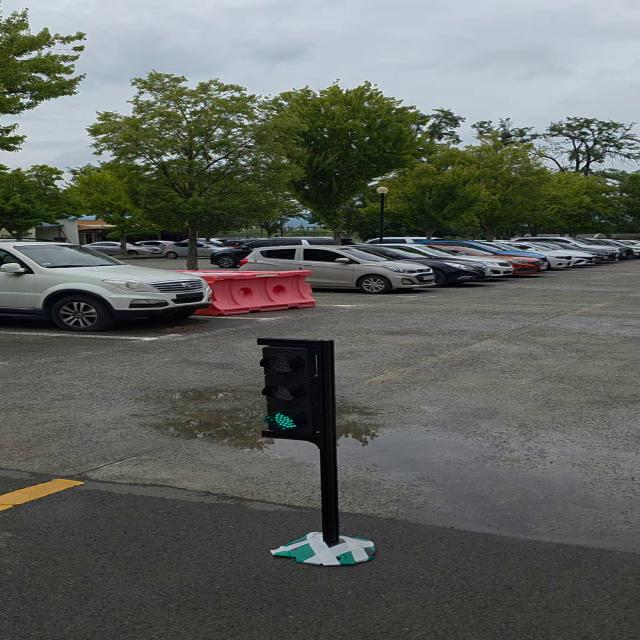green: (258, 339, 339, 441)
